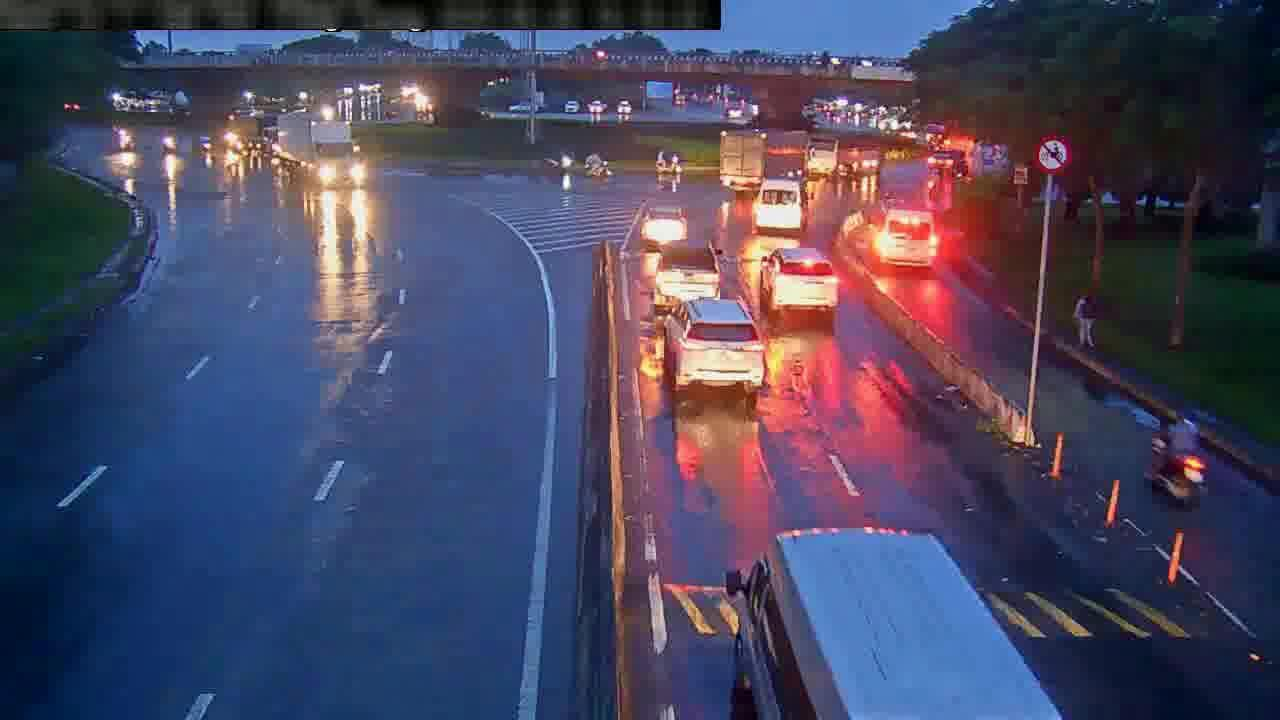car: (660, 298, 766, 404), (758, 248, 839, 317), (647, 237, 722, 302), (642, 204, 689, 239)
container: (276, 111, 363, 191), (717, 125, 816, 188), (815, 133, 885, 179)
motorbike: (1153, 407, 1207, 503)
passenger_car: (729, 529, 1064, 720), (867, 194, 939, 271), (753, 176, 811, 234)
